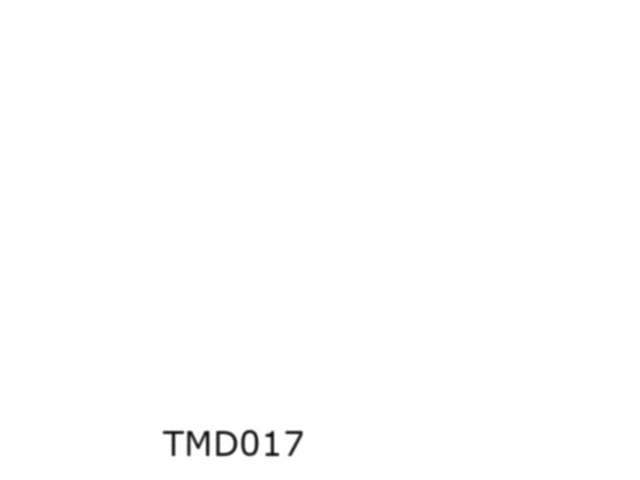OCR_AREA: (159, 426, 309, 460)
